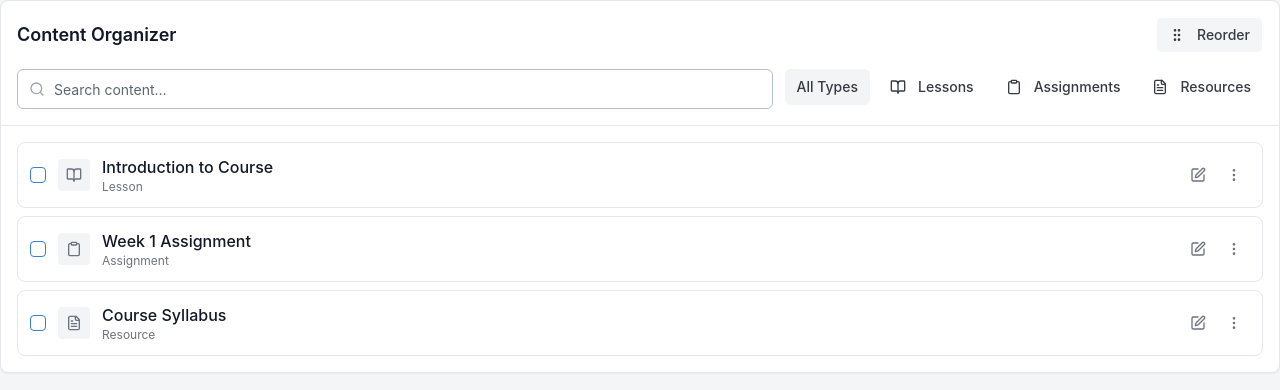
Scenario: ContentOrganizer › filters items by search query
Note: Type in search box
Step 1. Type "Assignment" into the field with placeholder "Search content..." → (395, 89), box [17,69,772,109]
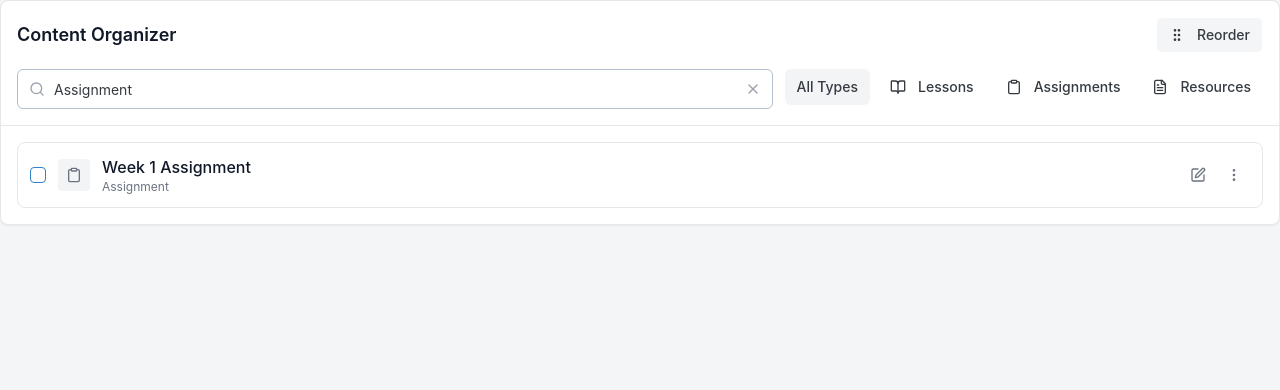
Expected: the heading "Week 1 Assignment" is shown, [102,157,251,177]
Expected: the heading "Introduction to Course" is gone
Expected: the heading "Course Syllabus" is gone
